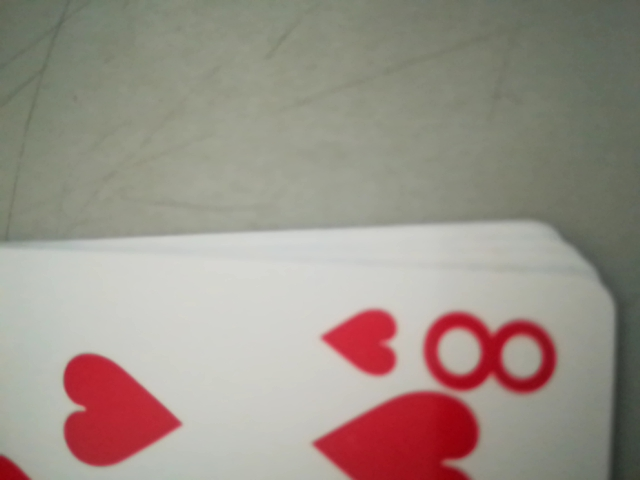hx 8: (320, 298, 560, 394)
